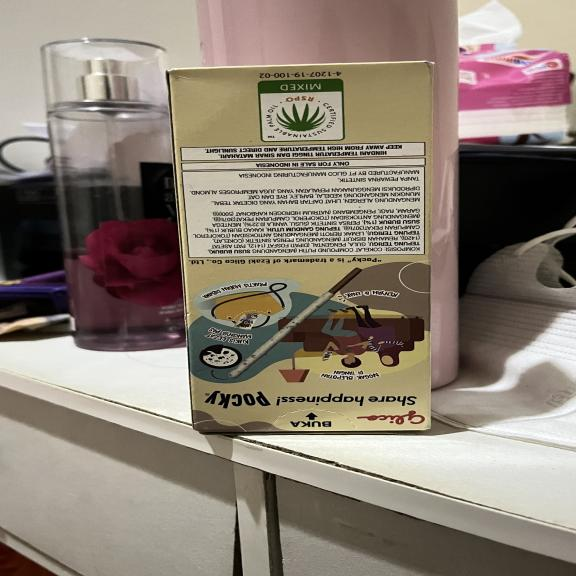Kertas: (165, 64, 437, 436)
